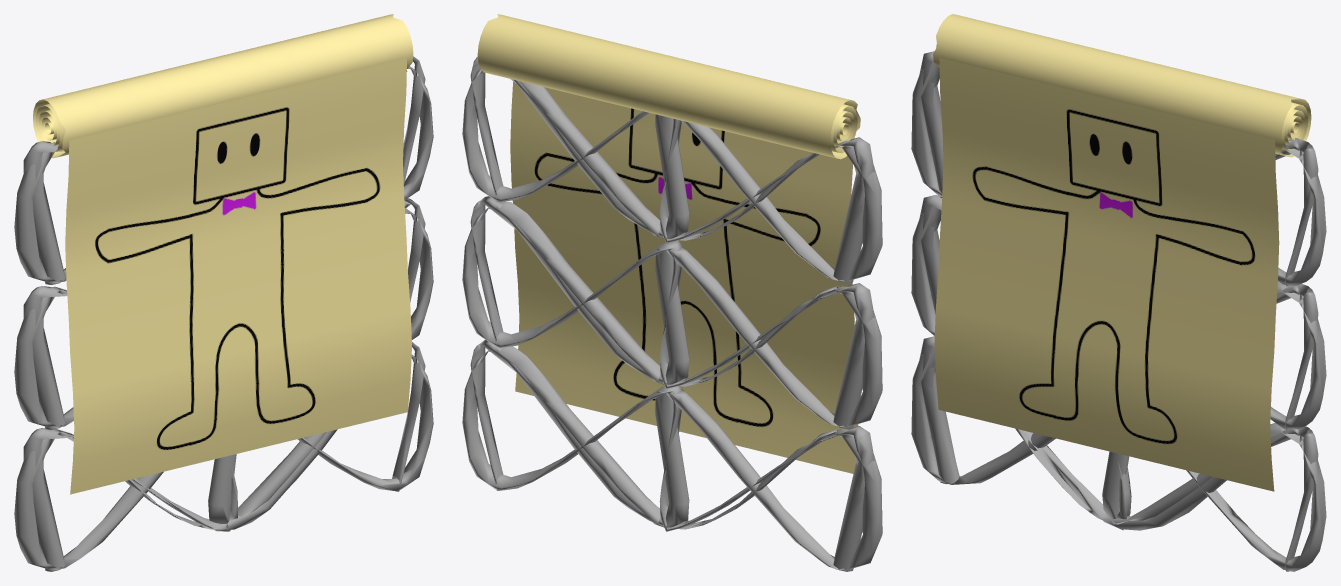
Rendered from SpawnPointStand.fbx.
3 renders of one model, left to right at view 1: azimuth 30°, elevation 25°; view 2: azimuth 150°, elevation 25°; view 3: azimuth 330°, elevation 25°, orthographic.
Parts seen in each view (by area): view 1: polySurface9; view 2: polySurface9; view 3: polySurface9.
Boxes of the visible parts, <box> form: polySurface9: <box>14,14,433,571</box>; polySurface9: <box>462,14,882,571</box>; polySurface9: <box>911,14,1326,571</box>.
Size of the model in its own units: 32.19 by 35.1 by 4.73.
3 materials, 2 textured.
